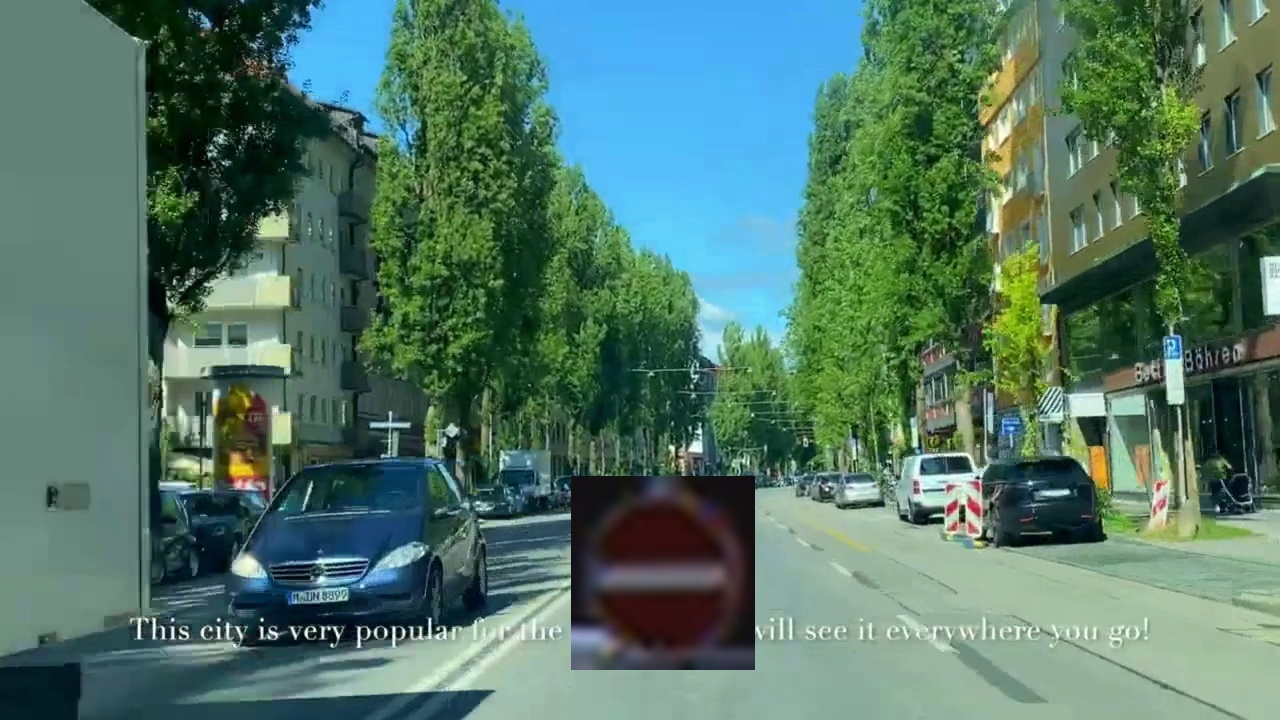No entry: (571, 476, 755, 670)
